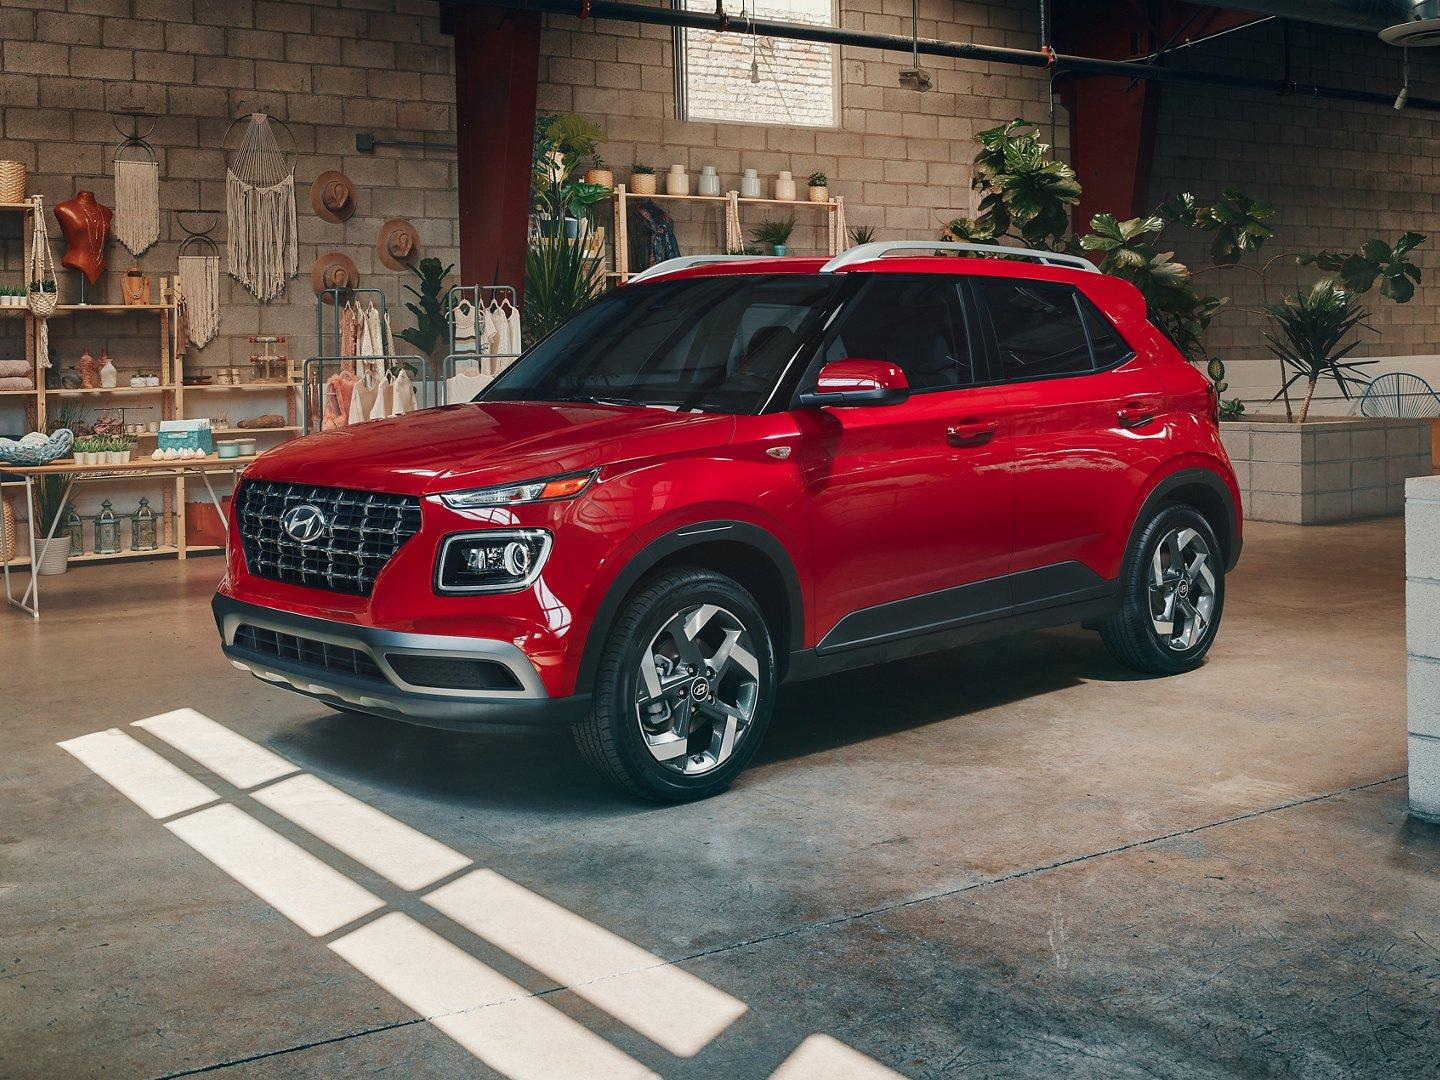car: (203, 238, 1284, 787)
